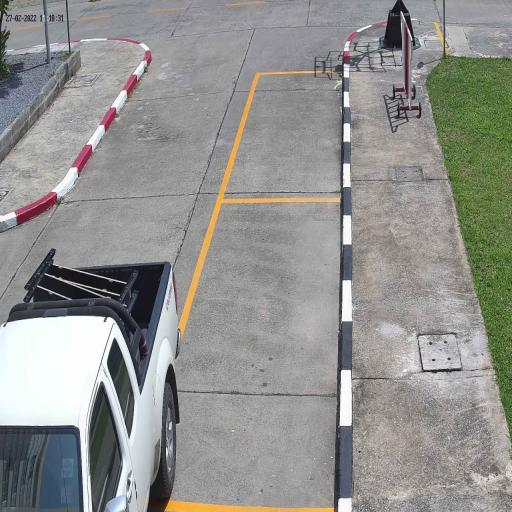car: (0, 260, 183, 512)
